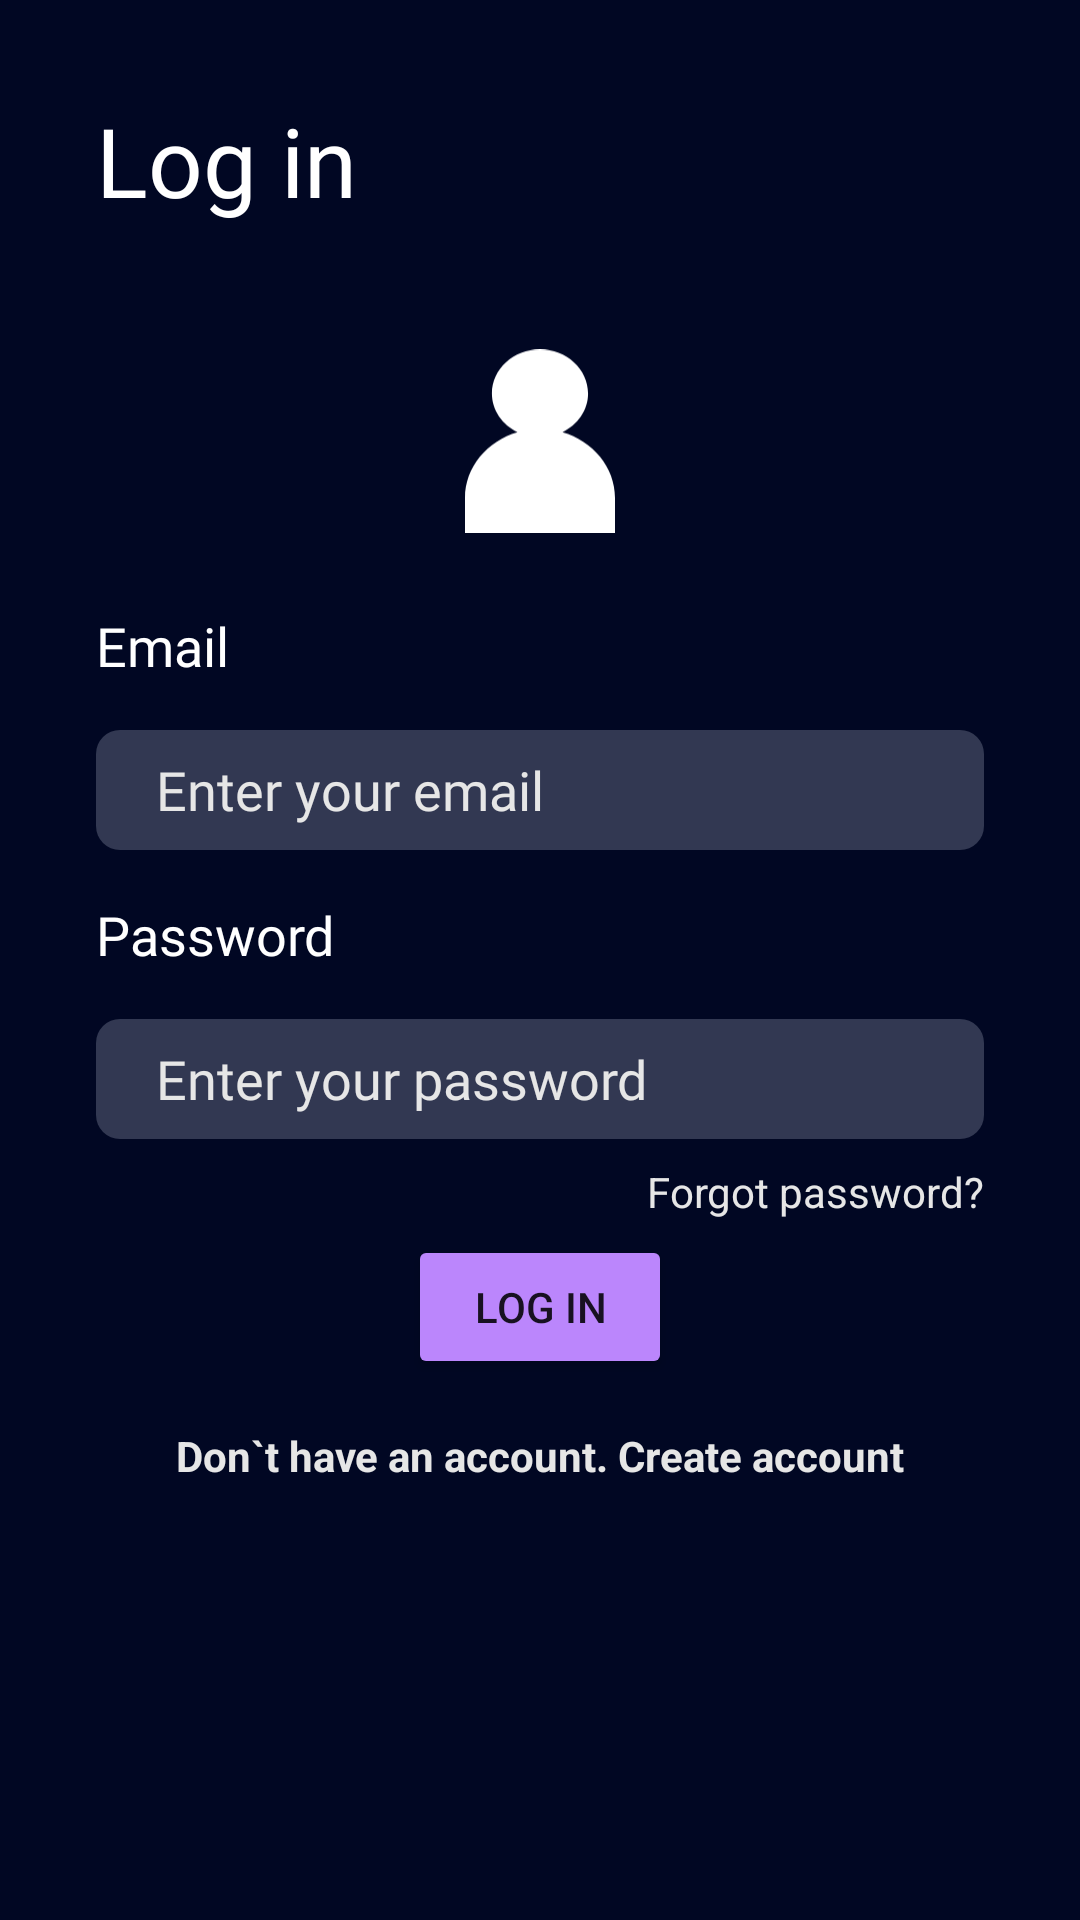

Named icons in this screenshot (1080 × 1920) and their bounding boxes, [x1, y1, x2, y2]:
person: [465, 349, 615, 533]
